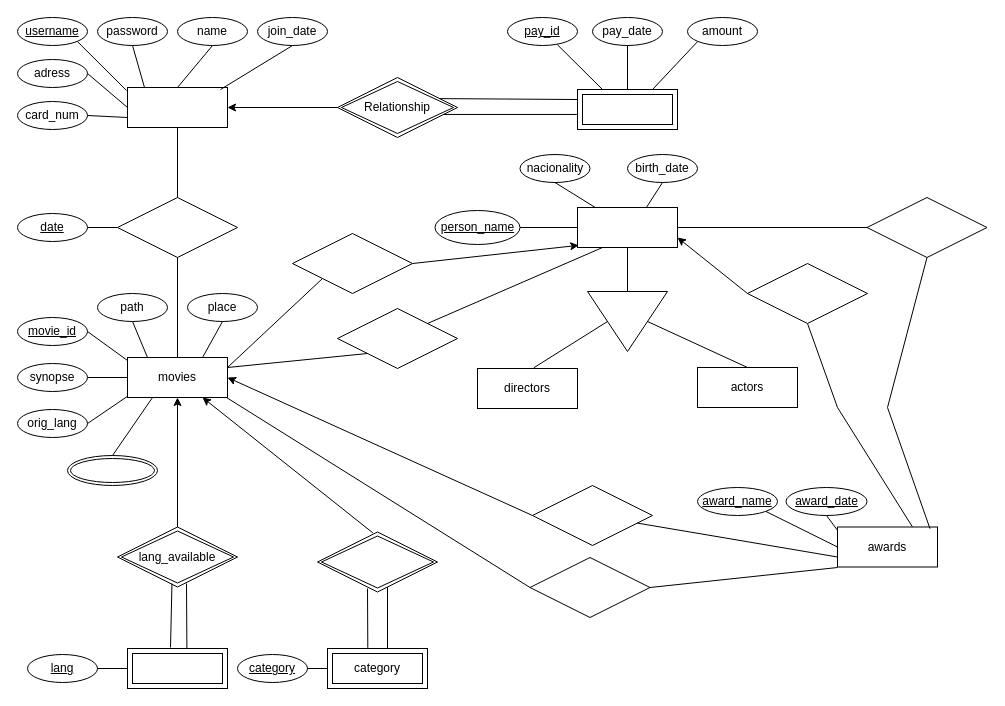
Image size: 1005x706. Some labels were removed from this diagram. Each missing label, with the centre of its shape:
"casted_by" belongs at (x=397, y=338).
"categories" belongs at (x=377, y=561).
"clients" belongs at (x=177, y=107).
"crew_people" belongs at (x=627, y=227).
"directed_by" belongs at (x=352, y=263).
"history" belongs at (x=177, y=227).
"ISA" belongs at (x=627, y=321).
"langs" belongs at (x=177, y=668).
"movies_nominee" belongs at (x=589, y=587).
"movies_won" belongs at (x=592, y=515).
"payments" belongs at (x=627, y=109).
"person_nominee" belongs at (x=926, y=227).
"person_won" belongs at (x=807, y=293).
"titles" belongs at (x=112, y=470).
